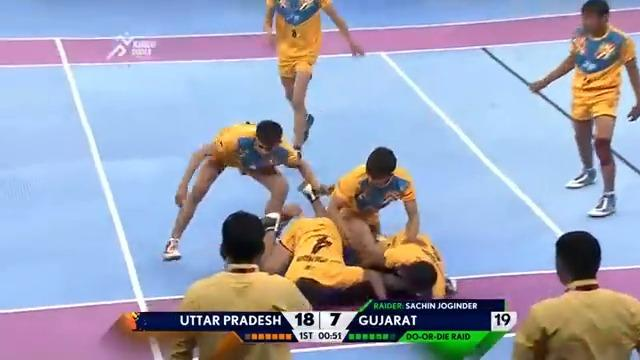Player: (527, 0, 639, 217), (161, 118, 327, 261), (326, 146, 446, 299), (511, 229, 639, 359), (262, 0, 365, 154)
referee: (169, 210, 313, 358)
